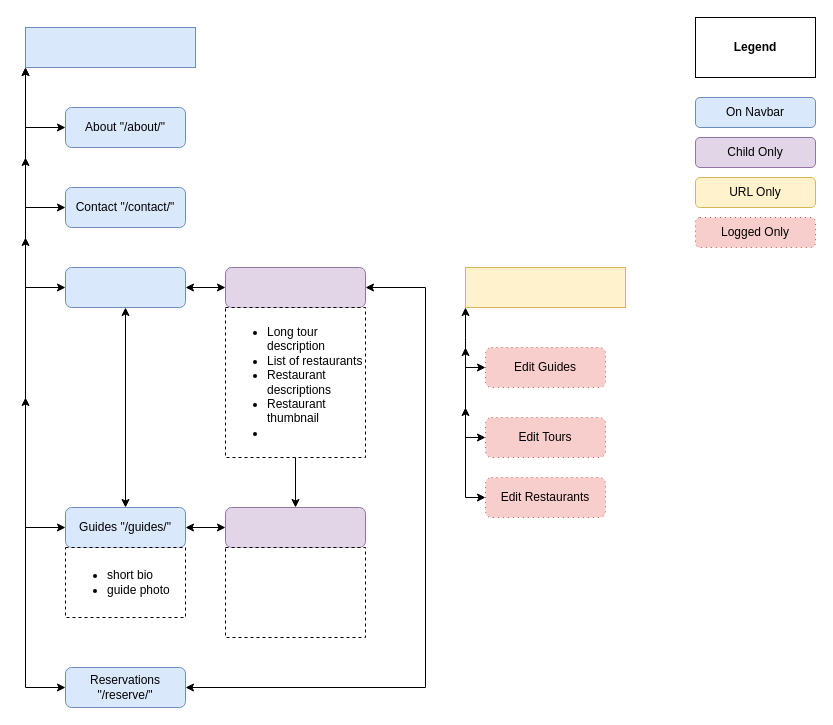
This 833x725 diagram has some shape labels left out. Here are the shapes that lost their labels. From the top down, the centre of each, then its label:
point (110, 47): Landing Page "/","/en/","/jp/","/ar/", "/zh/", "/ko/"
point (125, 287): Tours "/tours/"
point (295, 287): Tour Details "/details/"
point (545, 287): Admin Login "/admin/"
point (295, 527): Guide profile "/profile/"
point (295, 592): guide bio guide photo tours offered guide schedule schedule tour
